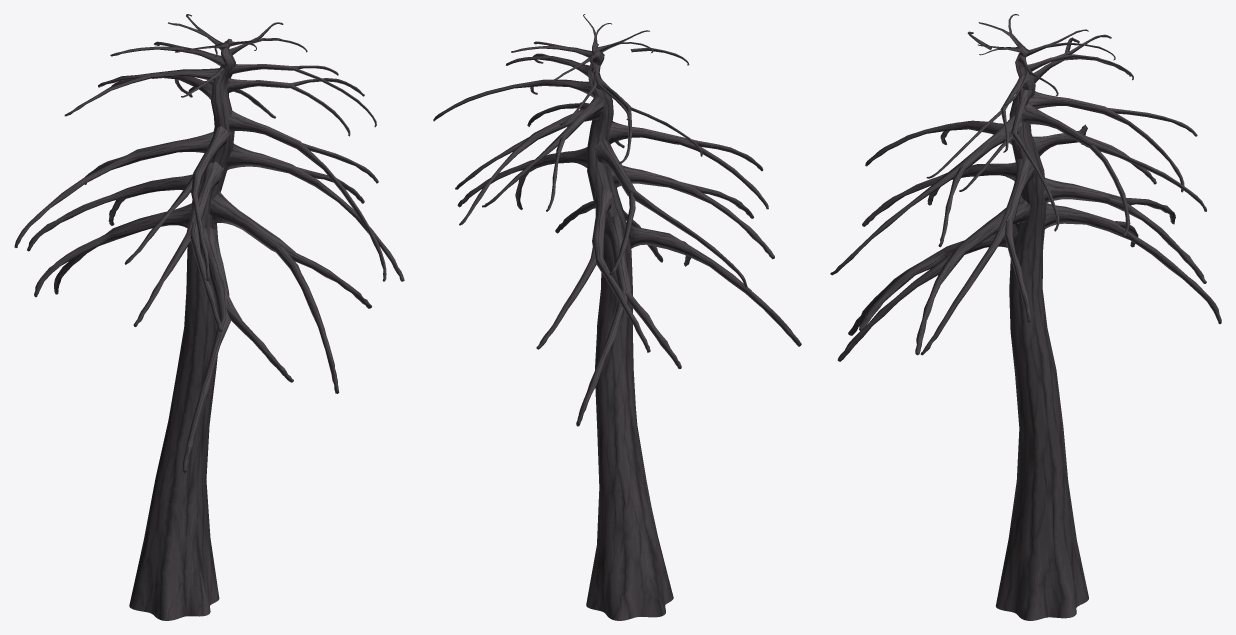
File: DeadTree_4.gltf
3 views of the same model, side by side, from view 1: azimuth 30°, elevation 25°; view 2: azimuth 150°, elevation 25°; view 3: azimuth 270°, elevation 25° (orthographic). The views are drawn at different scales.
Visible parts, largest first — view 1: DeadTree_4; view 2: DeadTree_4; view 3: DeadTree_4.
Boxes of the visible parts, x1,y1,x2,y2 form: DeadTree_4: [14, 14, 404, 620]; DeadTree_4: [433, 14, 801, 620]; DeadTree_4: [830, 14, 1221, 620].
Size of the model in its own units: 7.96 by 12.77 by 7.73.
1 material, 1 textured.
